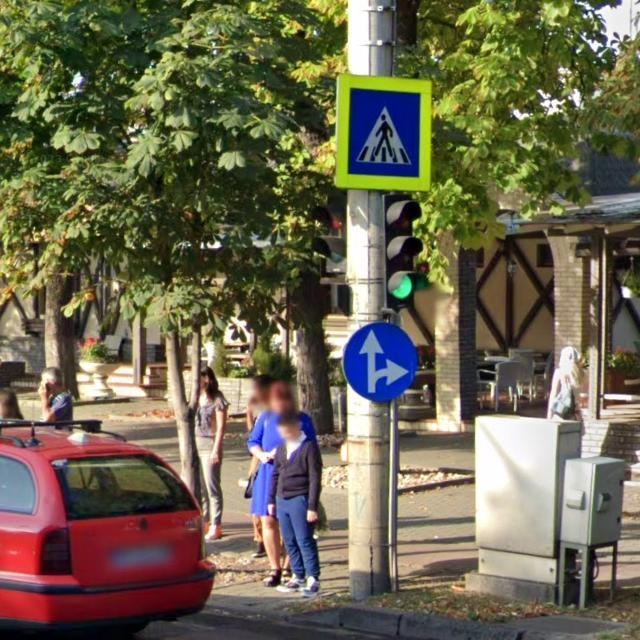info_crosswalk: (335, 74, 433, 192)
